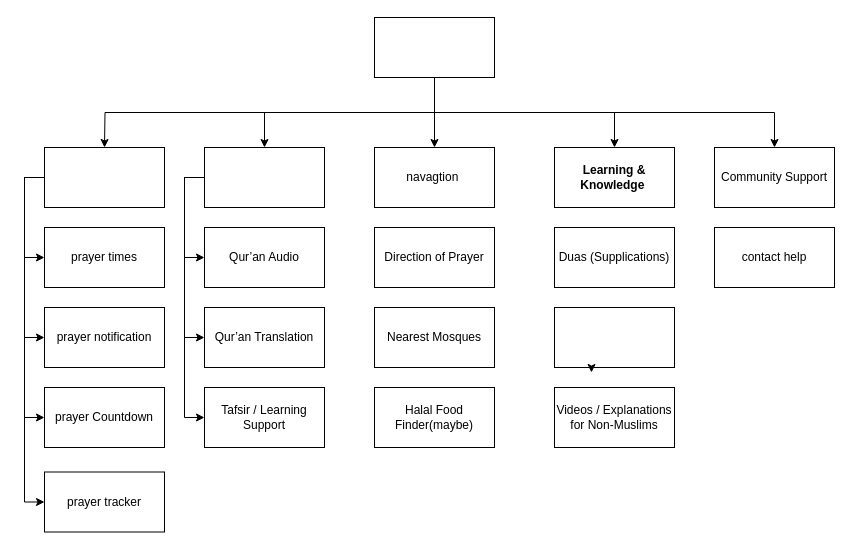
Some shapes in this 852 by 550 pixel diagram are drawn without their labels. Each missing label, with the centre of its shape:
"Articles & Lessons" belongs at point (614, 337).
"PocketDeen" belongs at point (434, 47).
"prayer feature" belongs at point (104, 177).
"quran" belongs at point (264, 177).
